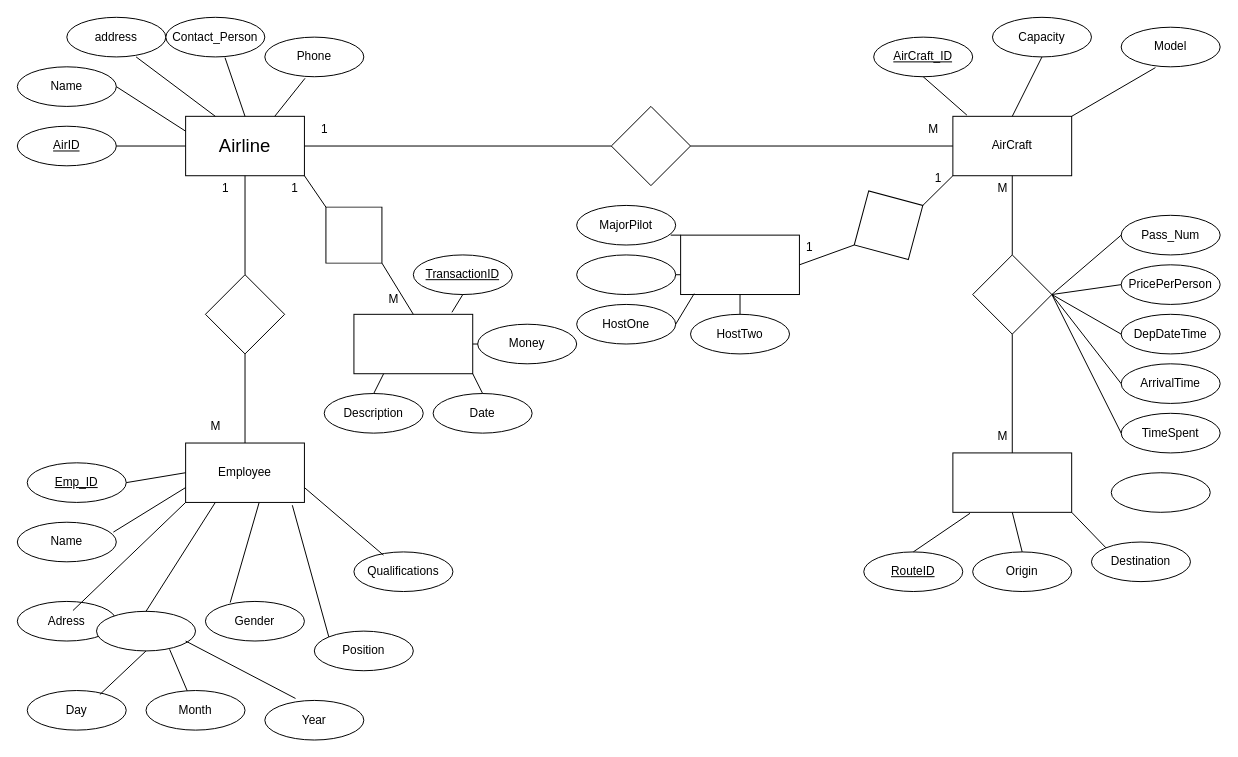
This 1238x757 diagram has some shape labels left out. Here are the shapes that lost their labels. From the top down, the box of each, then its label:
(610, 105, 691, 186): Own
(297, 178, 410, 291): Store
(833, 170, 943, 279): Has Its Own
(576, 254, 676, 295): Assistant Pilot
(680, 234, 799, 295): Crew
(204, 274, 285, 354): WORK
(972, 254, 1052, 334): Assigned
(353, 313, 473, 374): Transaction
(952, 452, 1072, 512): Route
(1110, 472, 1210, 512): Distance
(96, 610, 196, 651): BiryhDate
